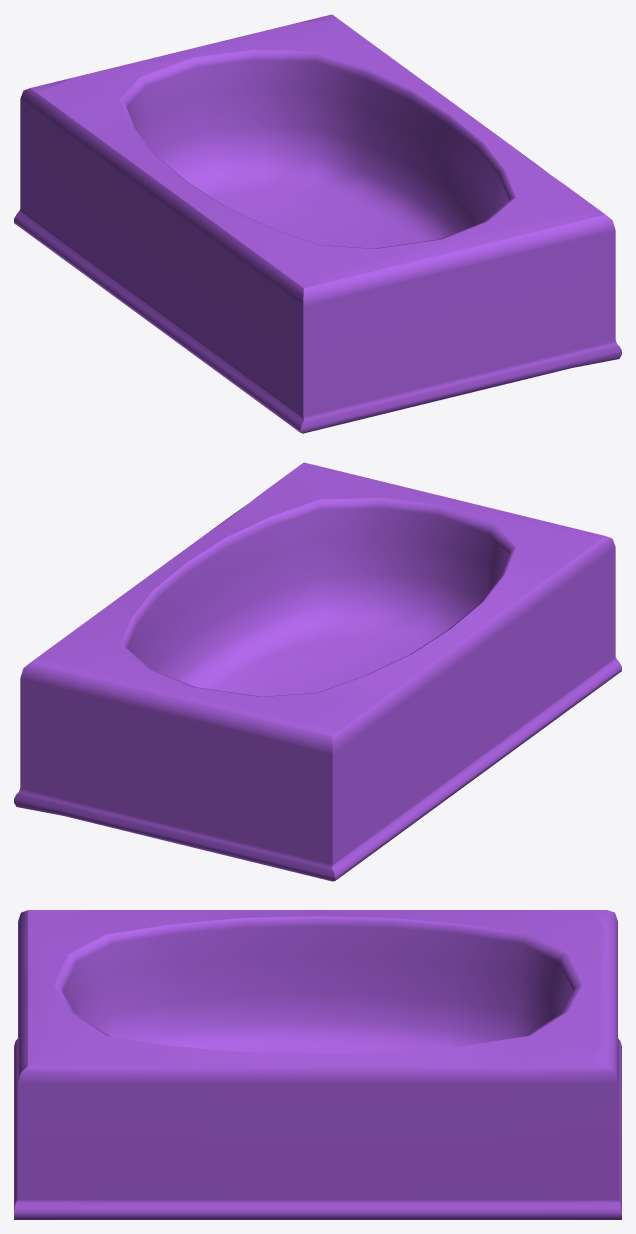
File: Friday_TubONLY.fbx
3 renders of one model, top to bottom at view 1: azimuth 30°, elevation 25°; view 2: azimuth 150°, elevation 25°; view 3: azimuth 270°, elevation 25°, orthographic. The views are drawn at different scales.
Visible parts, largest first — view 1: Tub; view 2: Tub; view 3: Tub.
Boxes of the visible parts, left/top/right/bottom form: Tub: left=14, top=14, right=621, bottom=433; Tub: left=14, top=462, right=621, bottom=881; Tub: left=14, top=910, right=621, bottom=1219.
Size of the model in its own units: 72.6 by 31.16 by 112.
